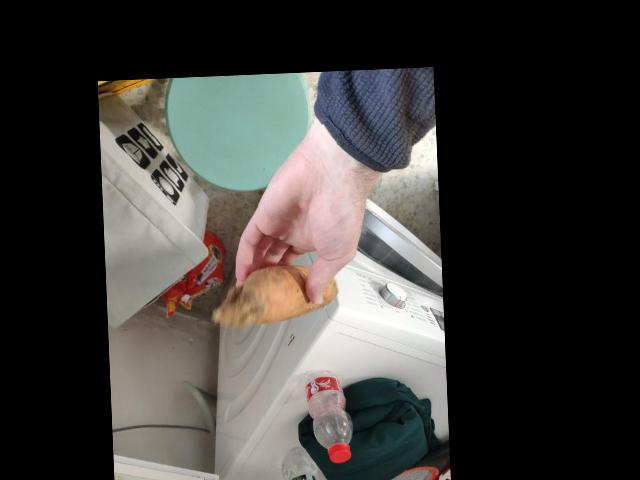sweet_potato: (235, 268, 331, 326)
